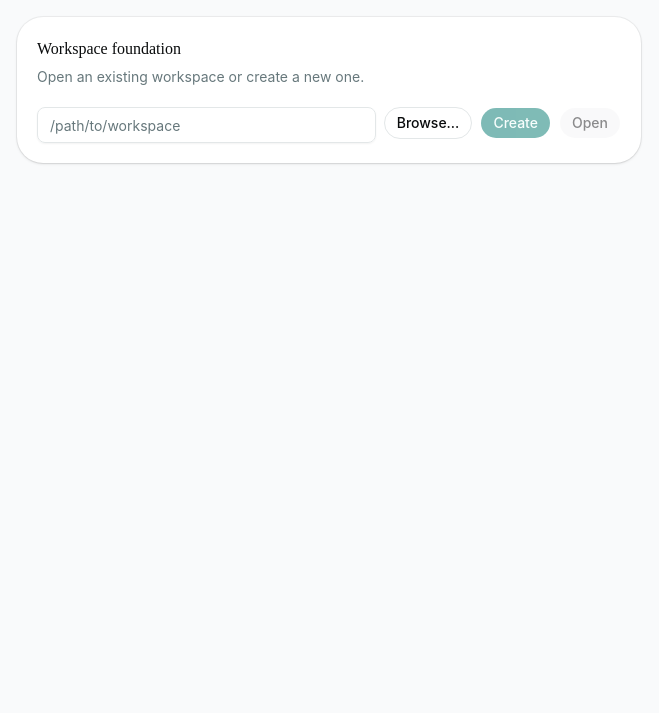
Test: WorkspaceFoundationPanel › shows an empty relationships state before any edge is authored
Step 1. Type "/Users/demo/workspaces/demo" into the field named "Workspace folder" → [206, 125], box [37,107,376,143]
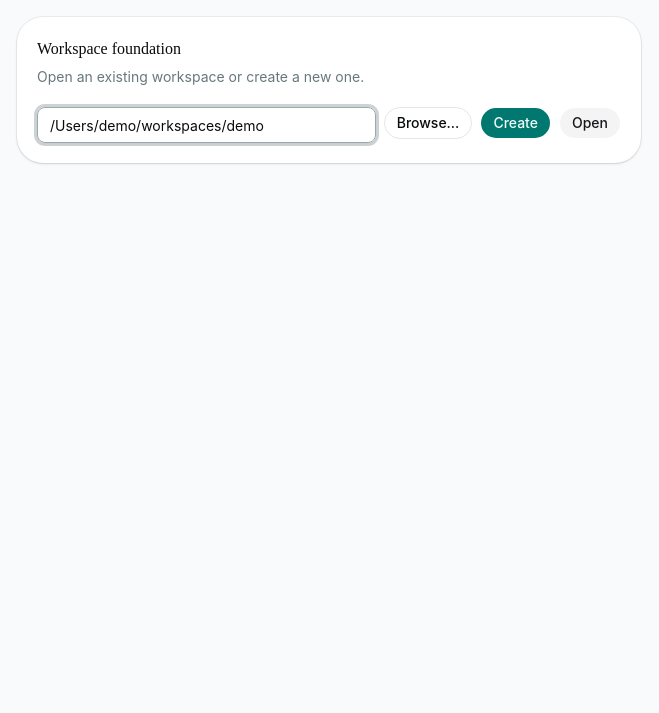
Step 2. Click the button "Create" → [516, 123], box [480,107,551,139]
(page scrolled)
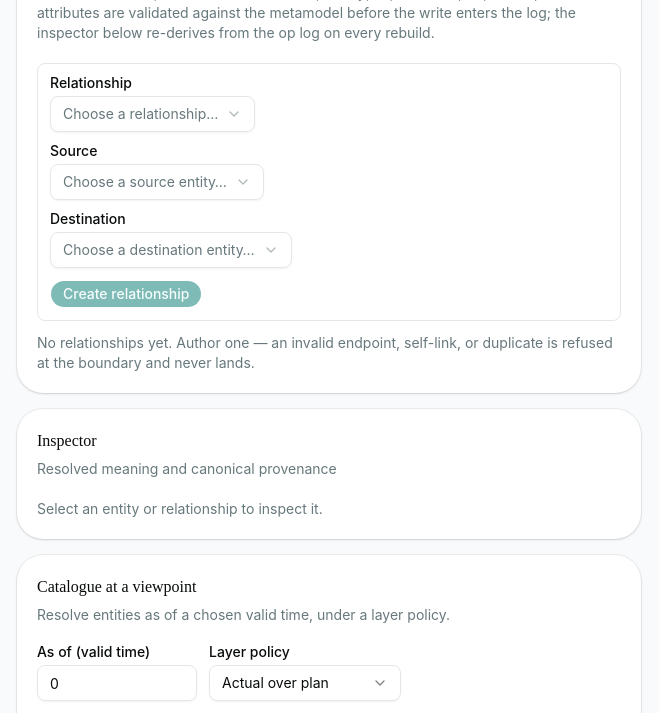
Expected: the text "No relationships yet" is shown, [37,334,613,371]
